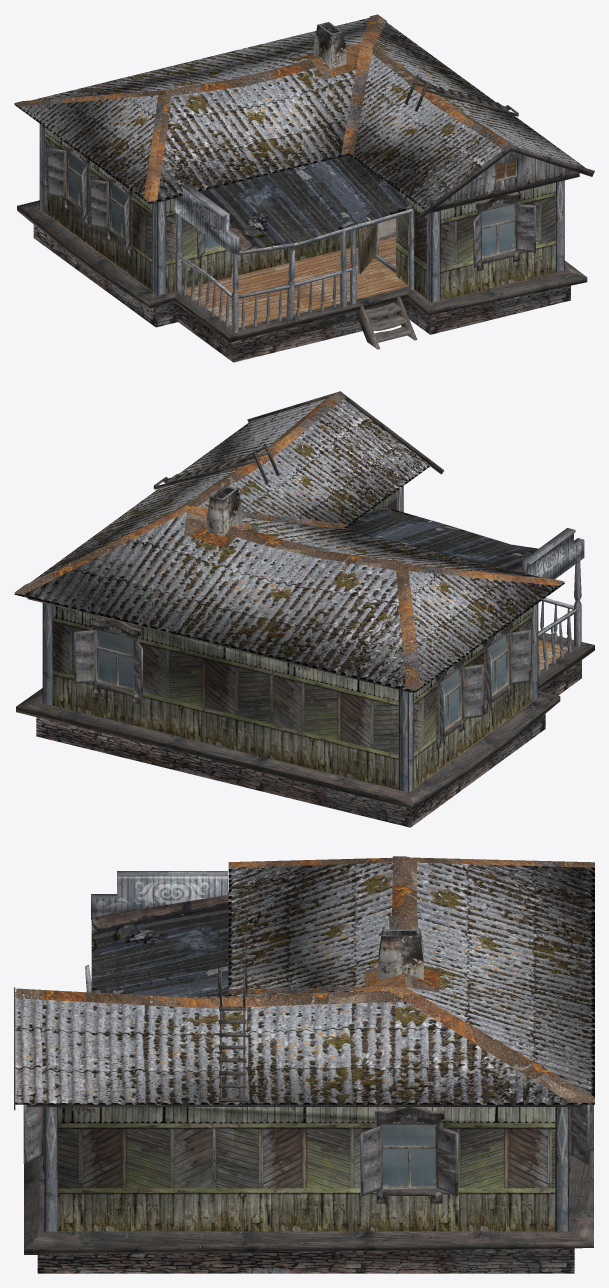
3 views of the same model, one above another, from view 1: azimuth 30°, elevation 25°; view 2: azimuth 150°, elevation 25°; view 3: azimuth 270°, elevation 25° (orthographic). The views are drawn at different scales.
Visible parts, largest first — view 1: House.001; view 2: House.001; view 3: House.001.
Boxes of the visible parts, x1,y1,x2,y2 form: House.001: [14, 14, 594, 362]; House.001: [14, 391, 594, 827]; House.001: [14, 856, 594, 1273].
Size of the model in its own units: 8.33 by 4.37 by 8.44.
Materials: 3 (3 with a texture image).
